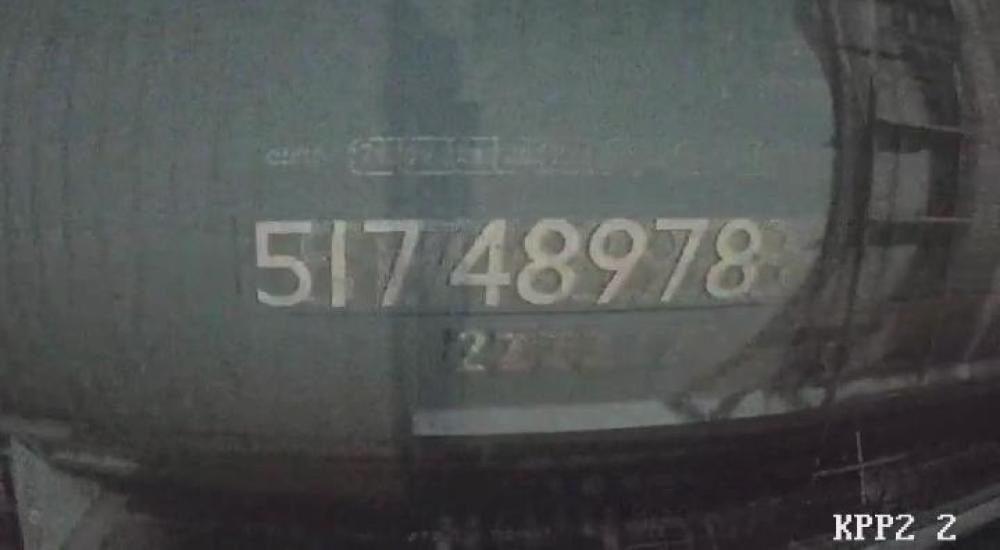Wagon-number: (241, 213, 762, 312)
